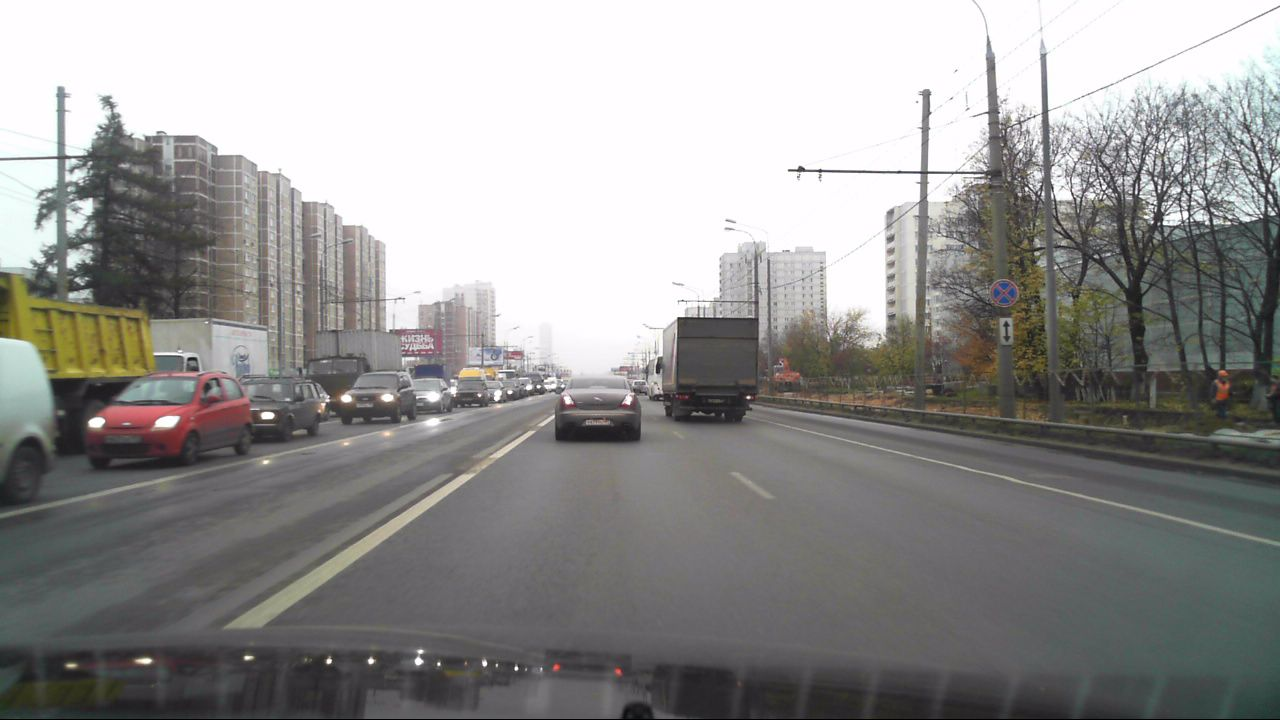No Parking: (990, 277, 1017, 306)
